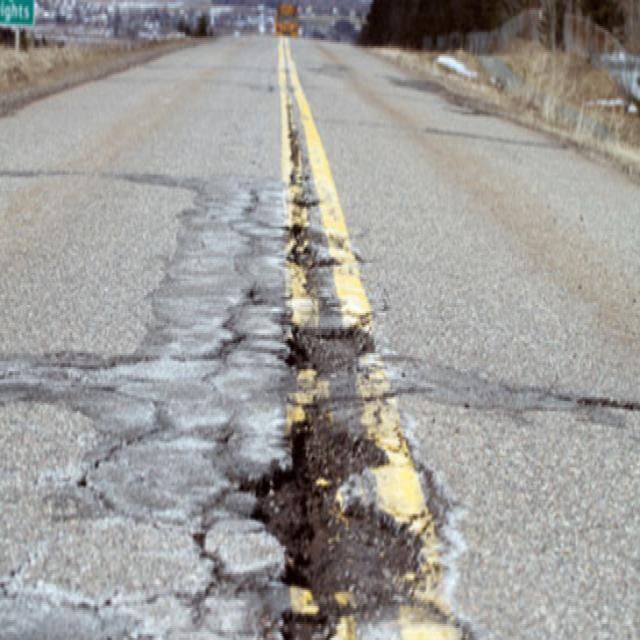Potholes: (260, 102, 388, 640)
